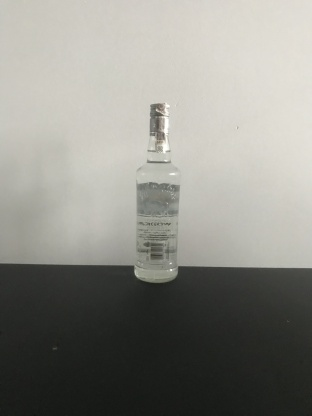nakretka: (147, 100, 171, 136)
